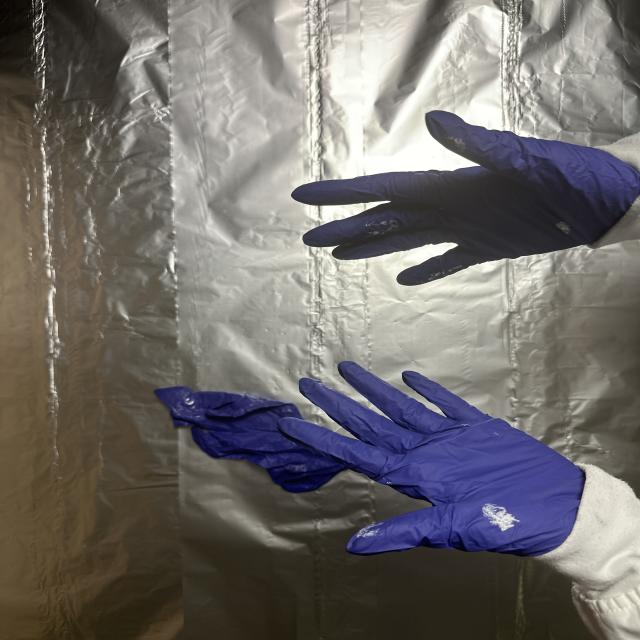gloves_contaminated: (292, 111, 640, 286), (279, 362, 585, 556)
